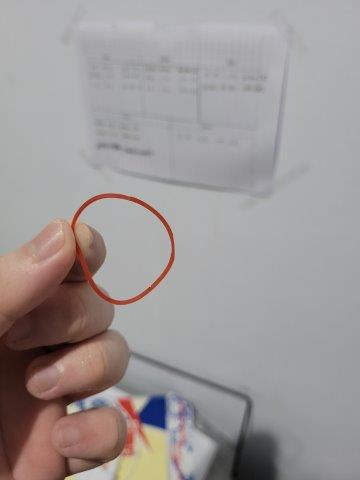karet: (72, 192, 176, 306)
